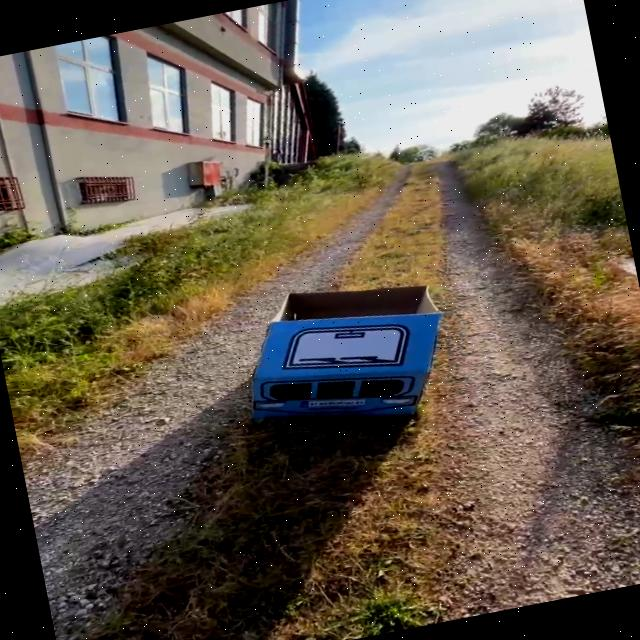blue_car: (191, 235, 508, 484)
